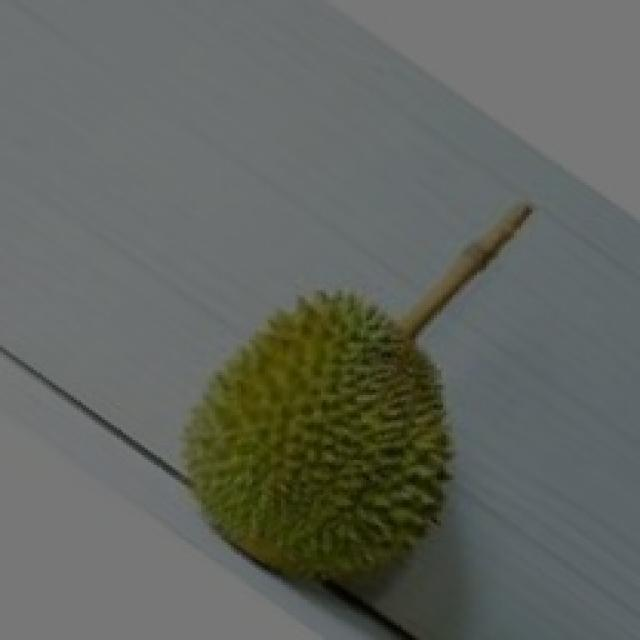fruit: (105, 238, 492, 638)
